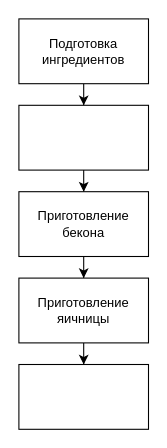
This 167x448 diagram has some shape labels left out. The box of each missing label's shape, as (x1, y1, x2, y2) in pixels:
Подача: (18, 363, 148, 429)
Разогрев сковороды: (18, 104, 148, 170)
